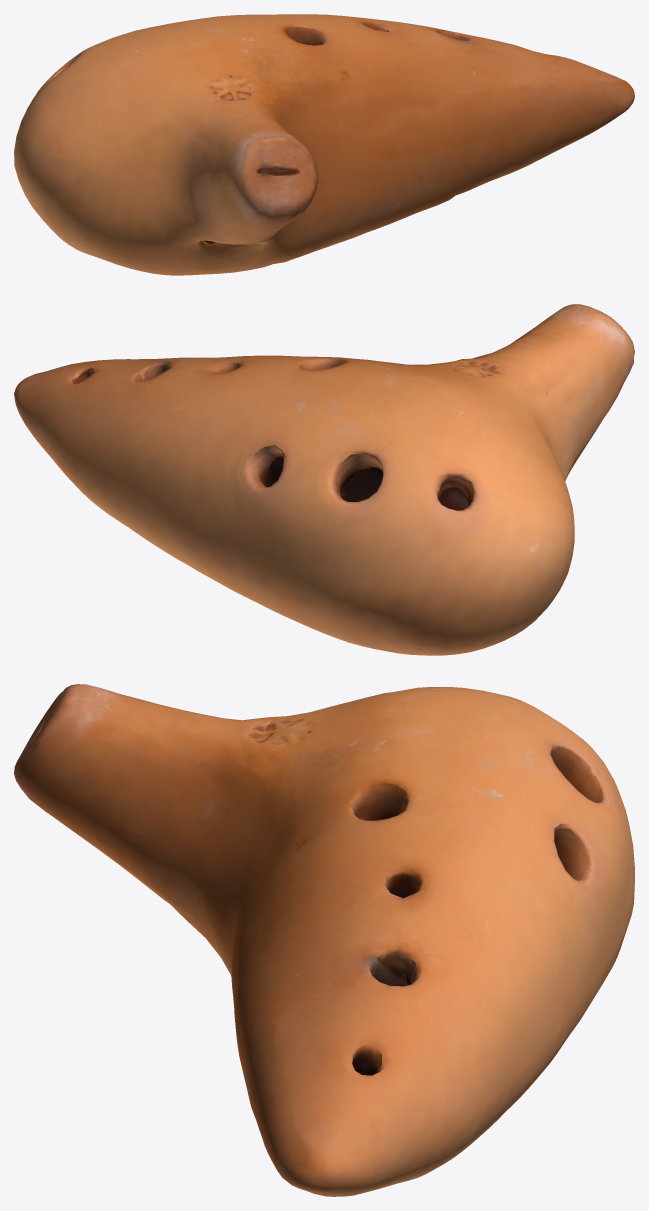
File: terracotta.glb
3 views of the same model, one above another, from view 1: azimuth 30°, elevation 25°; view 2: azimuth 150°, elevation 25°; view 3: azimuth 270°, elevation 25° (orthographic). The views are drawn at different scales.
Visible parts, largest first — view 1: Object_2; view 2: Object_2; view 3: Object_2.
Part boxes in pixels (x1=…): Object_2: x1=14, y1=14, x2=634, y2=275; Object_2: x1=14, y1=304, x2=634, y2=655; Object_2: x1=14, y1=684, x2=634, y2=1196.
Bounding box in the file's own units: 4.4 × 1.74 × 2.97.
Materials: 1 (1 with a texture image).
